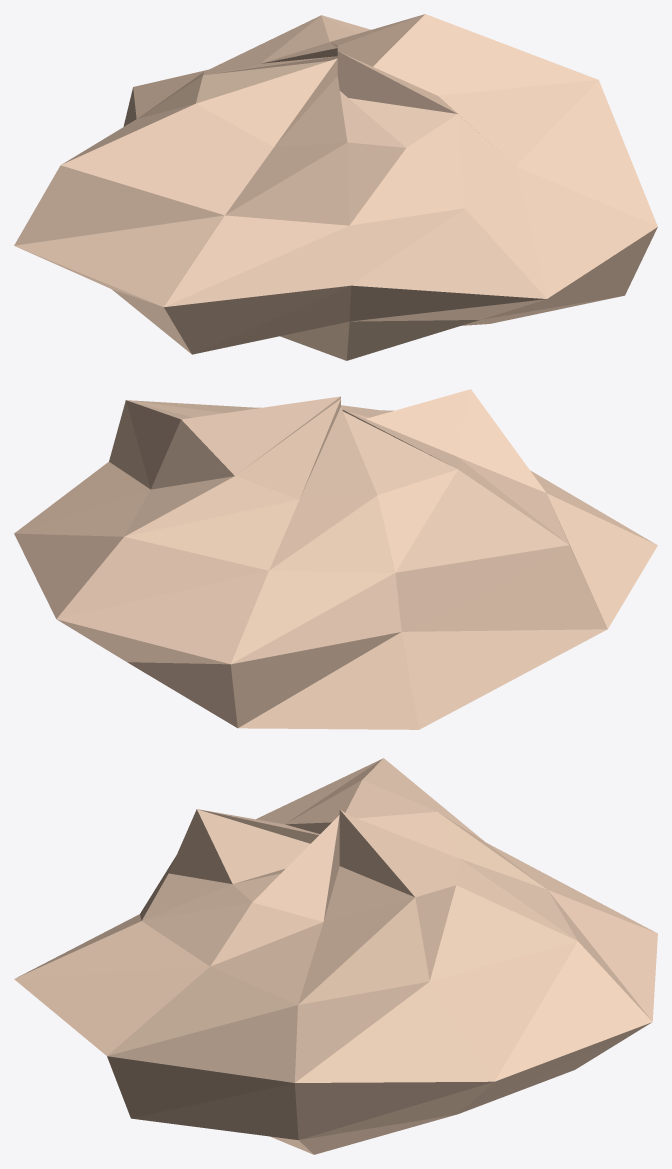
The model's file is rock_044.obj.
The picture shows the model from 3 angles, top to bottom: view 1: azimuth 30°, elevation 25°; view 2: azimuth 150°, elevation 25°; view 3: azimuth 270°, elevation 25°; orthographic projection. The views are drawn at different scales.
Bounding box in the file's own units: 1.39 × 0.6795 × 1.39.
